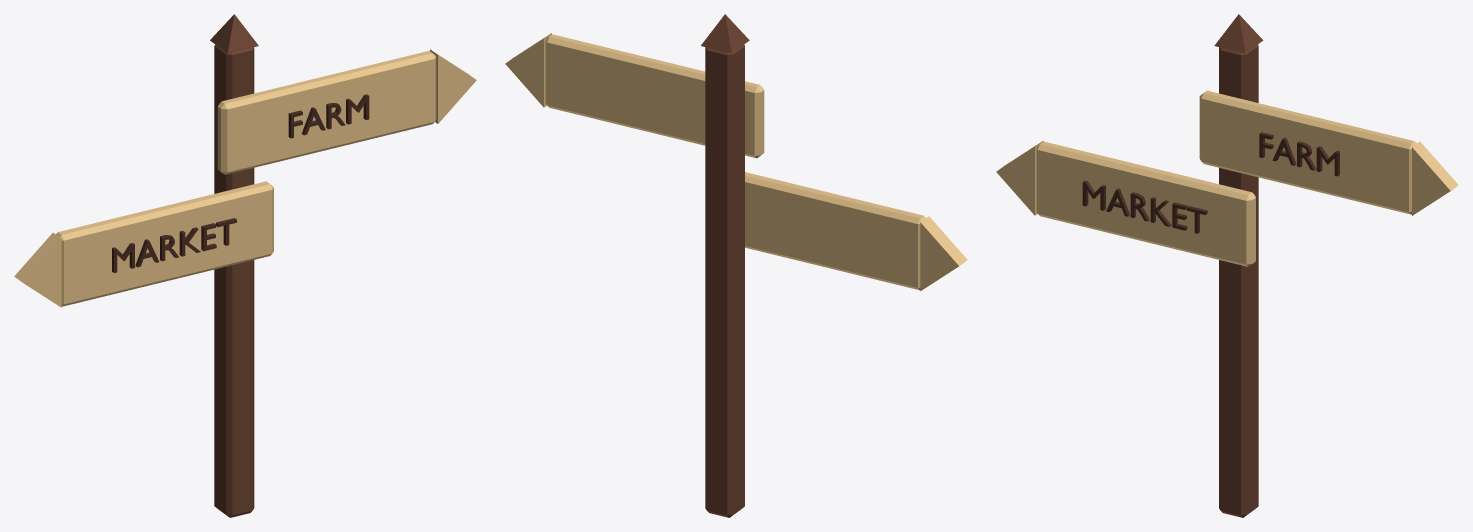
File: Sign_Post_Market.fbx
3 renders of one model, left to right at view 1: azimuth 30°, elevation 25°; view 2: azimuth 150°, elevation 25°; view 3: azimuth 330°, elevation 25°, orthographic.
Parts seen in each view (by area): view 1: Sign_Post_Market; view 2: Sign_Post_Market; view 3: Sign_Post_Market.
Part boxes in pixels (x1,y1,x2,y2): Sign_Post_Market: (14, 14, 476, 517); Sign_Post_Market: (505, 14, 967, 517); Sign_Post_Market: (996, 14, 1458, 517).
Size of the model in its own units: 2.34 by 2.45 by 0.2404.
